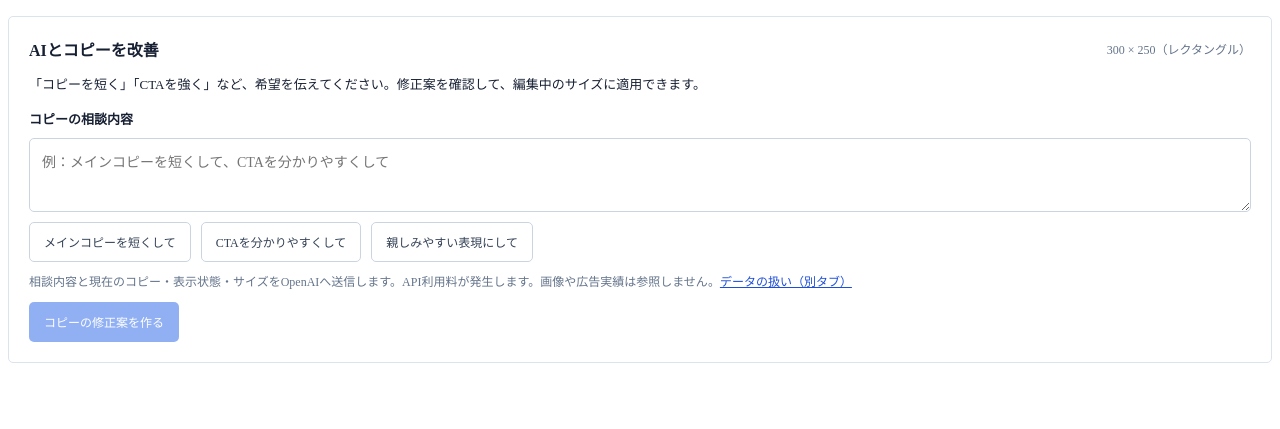
rejects malformed proposals without showing an apply action
Type "短くして" into the text box labelled "コピーの相談内容" at (640, 175), box [29,138,1251,212]
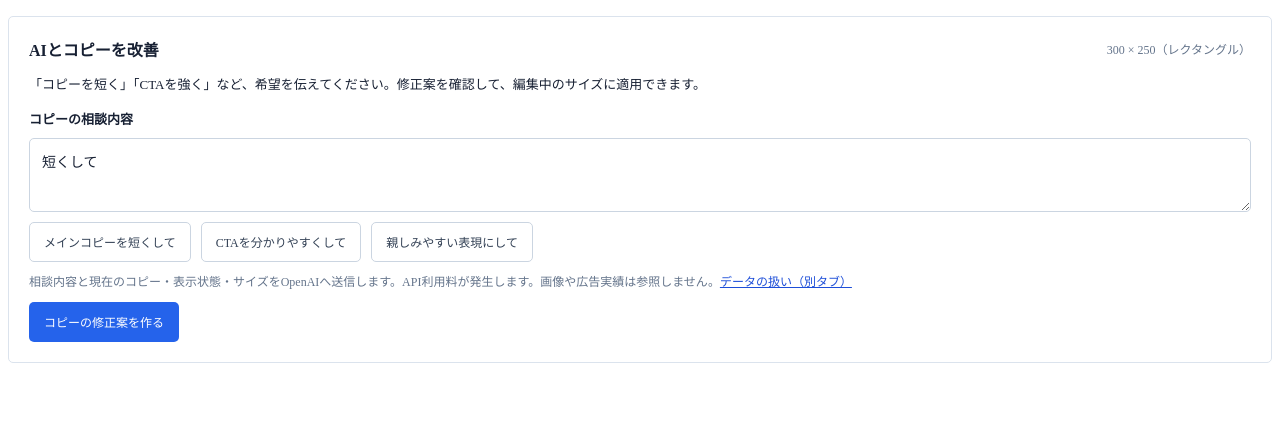
Click the button "コピーの修正案を作る" at (104, 322), box [29,302,179,342]
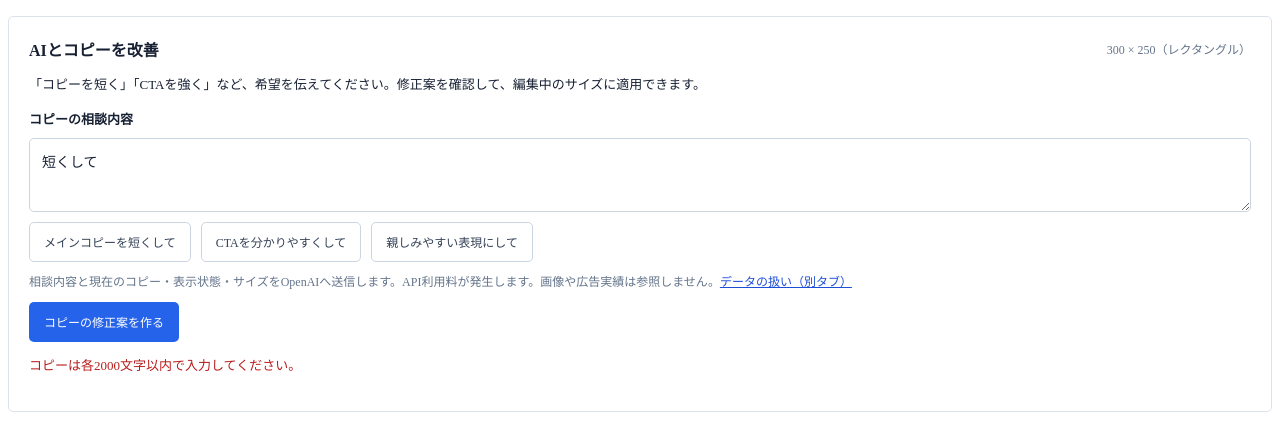
Expected: the message "コピーは各2000文字以内で入力してください。" is shown, [29,358,301,374]
